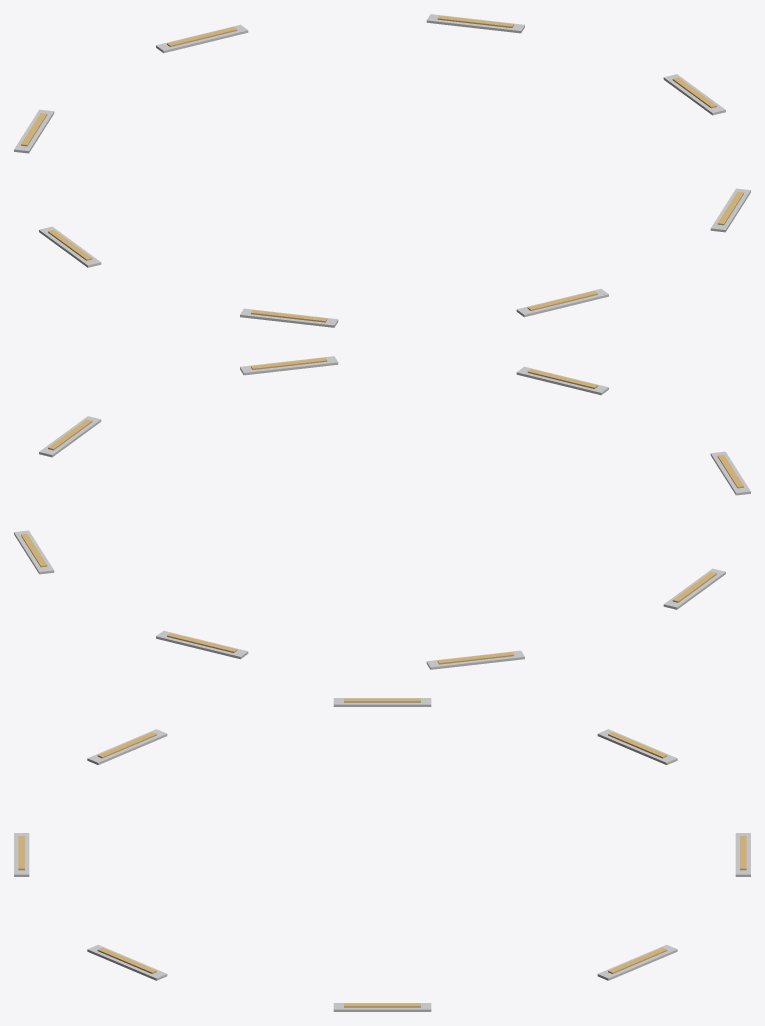
File: FloorRingMarker.glb
3 views of the same model, one above another, from view 1: azimuth 30°, elevation 25°; view 2: azimuth 150°, elevation 25°; view 3: azimuth 270°, elevation 25° (orthographic).
Visible parts, largest first — view 1: Body, Glow; view 2: Body, Glow; view 3: Body, Glow.
Boxes of the visible parts, <box> form: Body: <box>14,14,750,327</box>; Glow: <box>21,15,743,322</box>; Body: <box>14,356,750,669</box>; Glow: <box>21,357,743,664</box>; Body: <box>14,698,750,1011</box>; Glow: <box>18,698,746,1007</box>.
Size of the model in its own units: 14.3 by 0.08 by 14.3.
